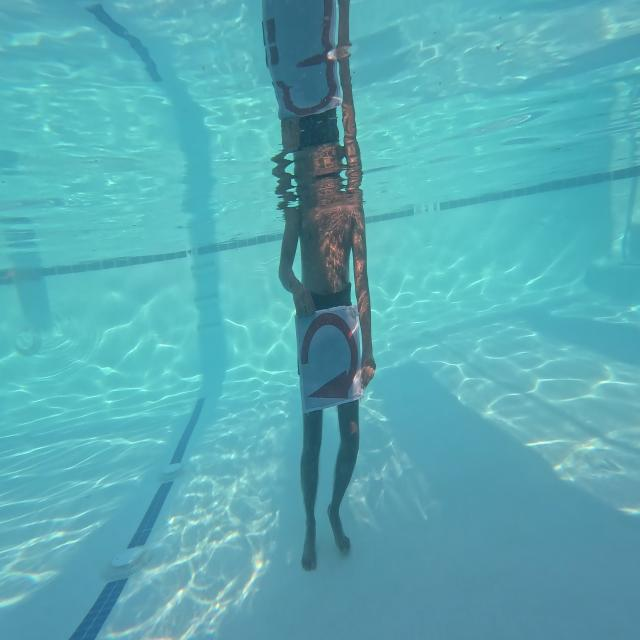red_side: (299, 307, 364, 409)
